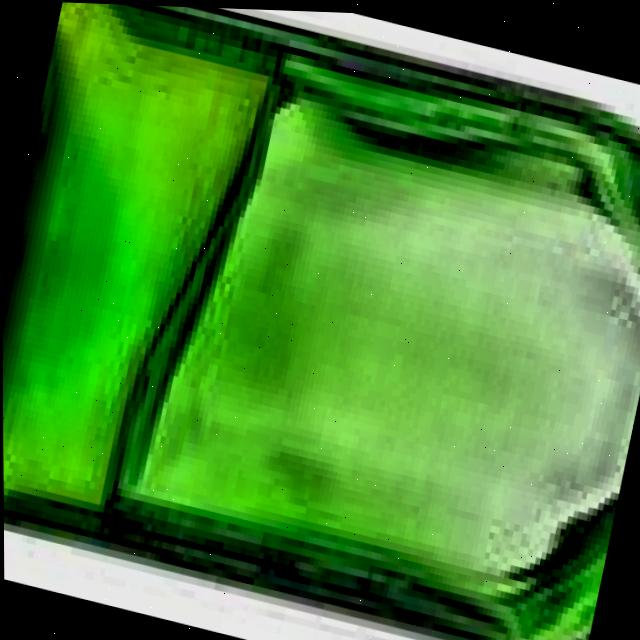glass: (2, 2, 640, 640)
